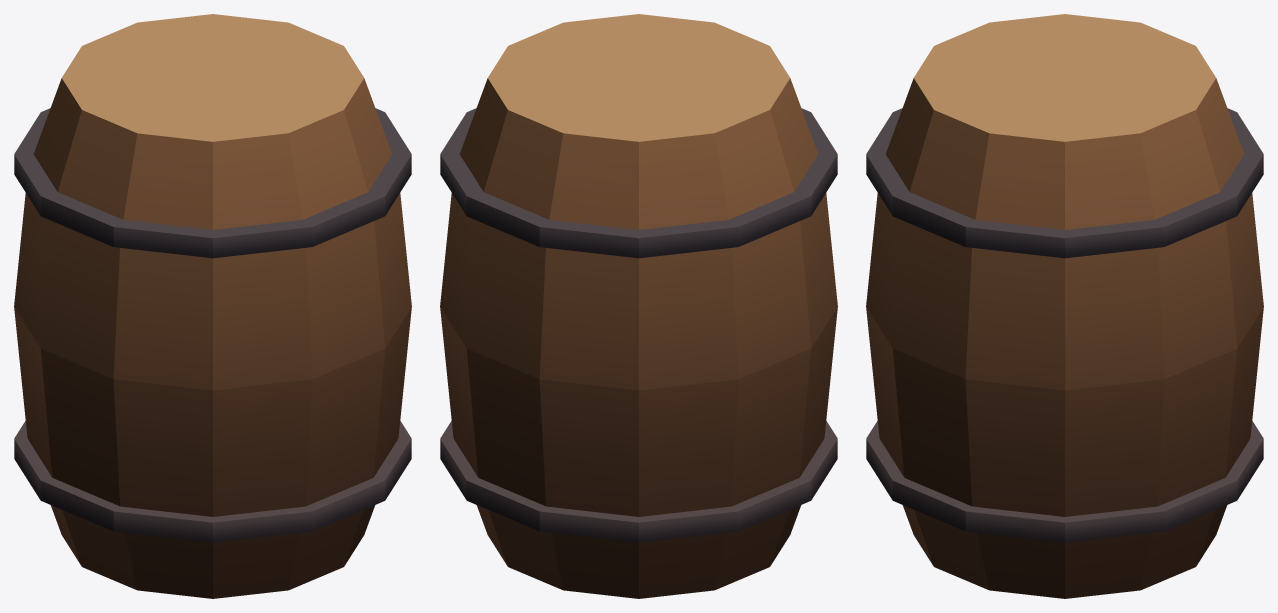
The model's file is PlayGround_Kit_Barrel.fbx.
The picture shows the model from 3 angles, left to right: view 1: azimuth 30°, elevation 25°; view 2: azimuth 150°, elevation 25°; view 3: azimuth 270°, elevation 25°; orthographic projection.
Parts seen in each view (by area): view 1: PlayGround_Kit_Barrel; view 2: PlayGround_Kit_Barrel; view 3: PlayGround_Kit_Barrel.
Part boxes in pixels (x1,y1,x2,y2): PlayGround_Kit_Barrel: (14,14,411,598); PlayGround_Kit_Barrel: (440,14,837,598); PlayGround_Kit_Barrel: (866,14,1263,598).
Size of the model in its own units: 0.71 by 0.9 by 0.71.
